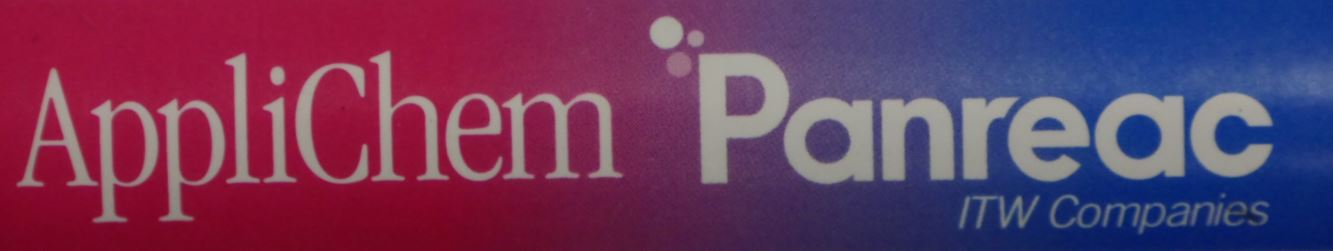ApplichemPanreac: (16, 21, 1273, 241)
